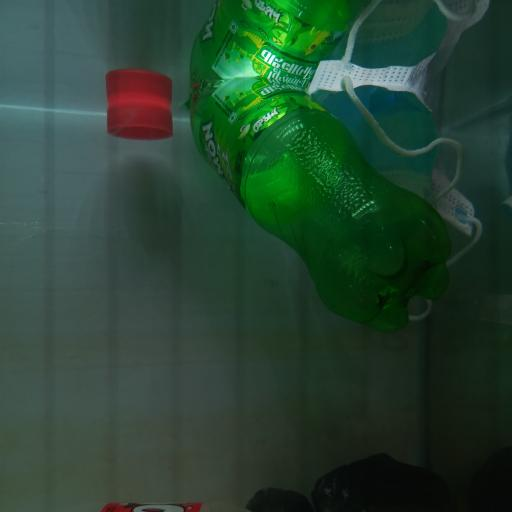bottle_cap: (105, 100, 175, 142)
mask: (320, 66, 481, 220)
plastic_bottle: (196, 85, 454, 329)
